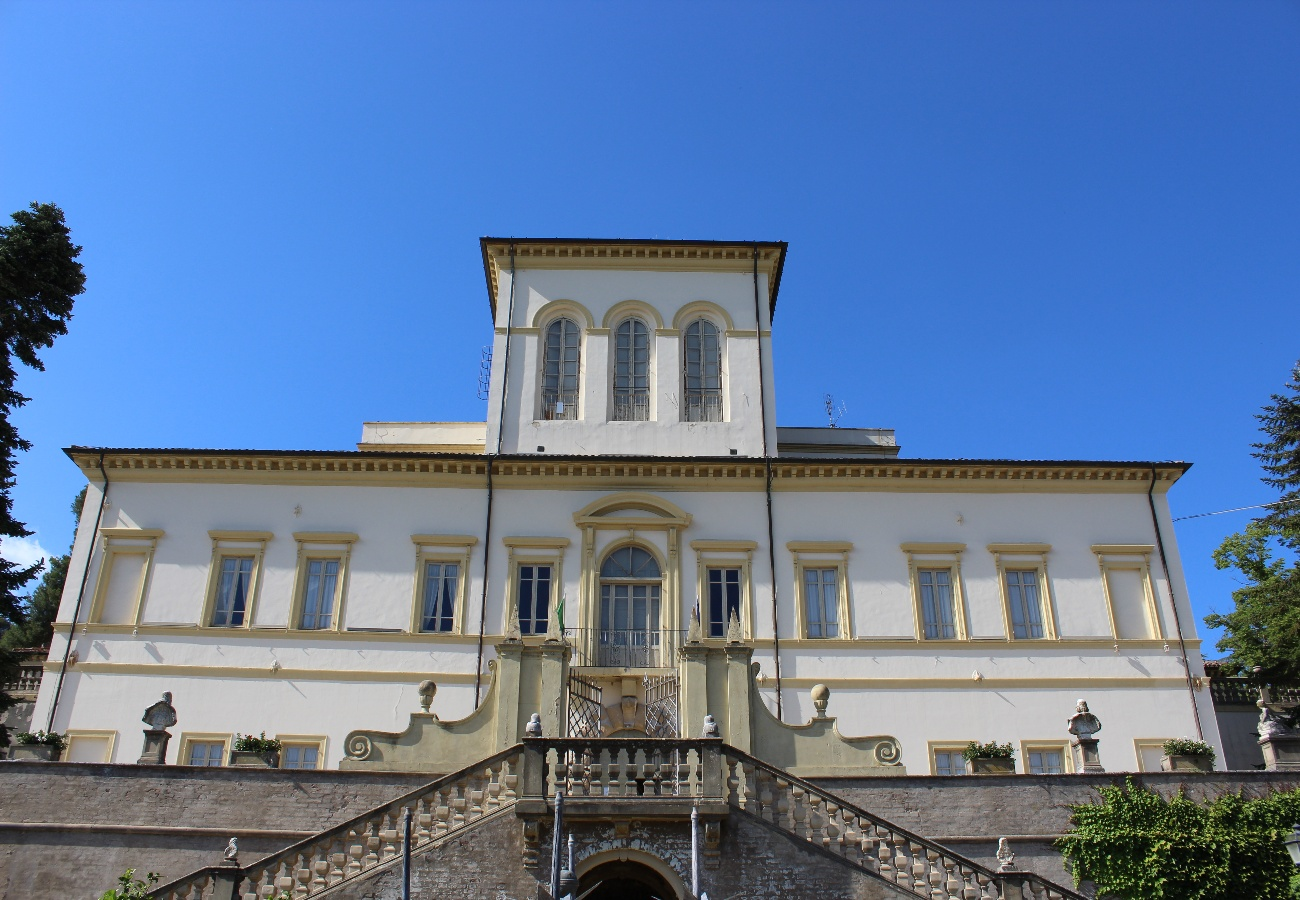Villa Caprile: (22, 233, 1229, 800)
